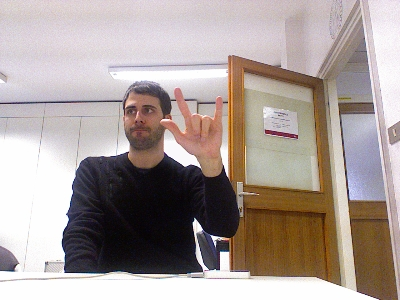我爱你: (158, 86, 224, 157)
